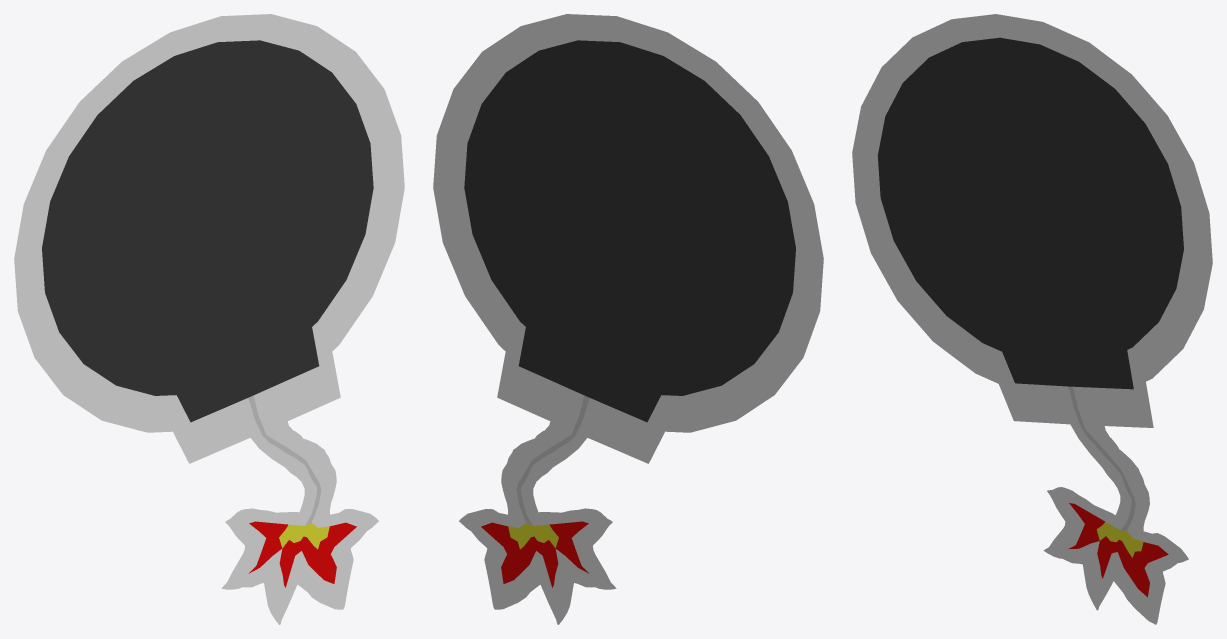
Rendered from アイテムボム02(最新).dae.
The picture shows the model from 3 angles, left to right: view 1: azimuth 30°, elevation 25°; view 2: azimuth 150°, elevation 25°; view 3: azimuth 330°, elevation 25°; orthographic projection. The views are drawn at different scales.
Parts seen in each view (by area): view 1: SketchUp (×6); view 2: SketchUp (×6); view 3: SketchUp (×6).
Part boxes in pixels (<box>): SketchUp (×6): <box>14,14,404,624</box>; SketchUp (×6): <box>433,14,823,624</box>; SketchUp (×6): <box>852,14,1212,624</box>.
Size of the model in its own units: 291 by 3.98e-13 by 444.
